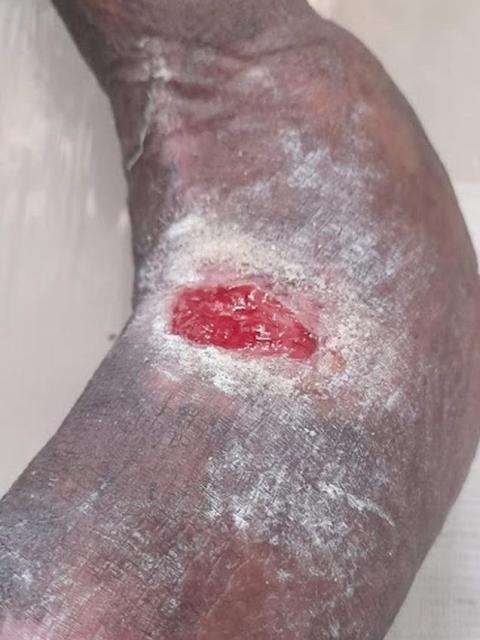wound: (163, 273, 319, 367)
